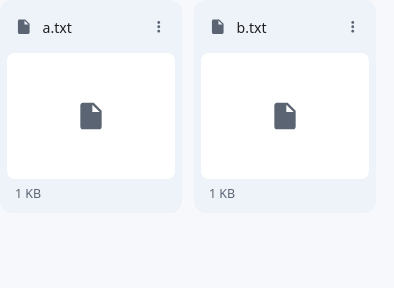
Test: FileGrid — details menu (005-actions-menu-bulk-select, US1) › opening a second card menu closes the first (only one open at a time)
Click the button named "Details for a.txt": {"x": 159, "y": 27} left=143, top=11, right=175, bottom=43
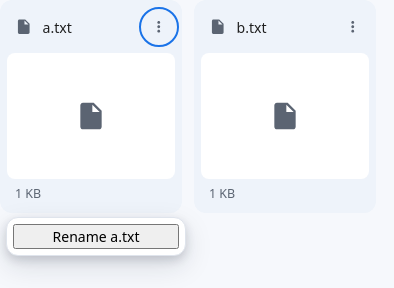
Result: the button "Rename a.txt" is shown at left=13, top=224, right=179, bottom=249
Click the button named "Details for b.txt": {"x": 353, "y": 27} left=337, top=11, right=369, bottom=43
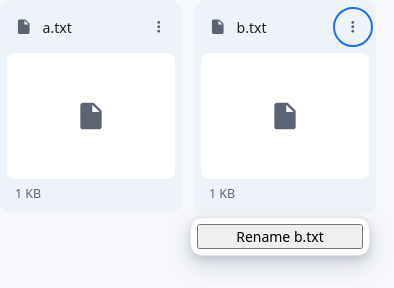
Result: the button "Rename a.txt" is gone
Result: the button "Rename b.txt" is shown at left=197, top=224, right=363, bottom=249
